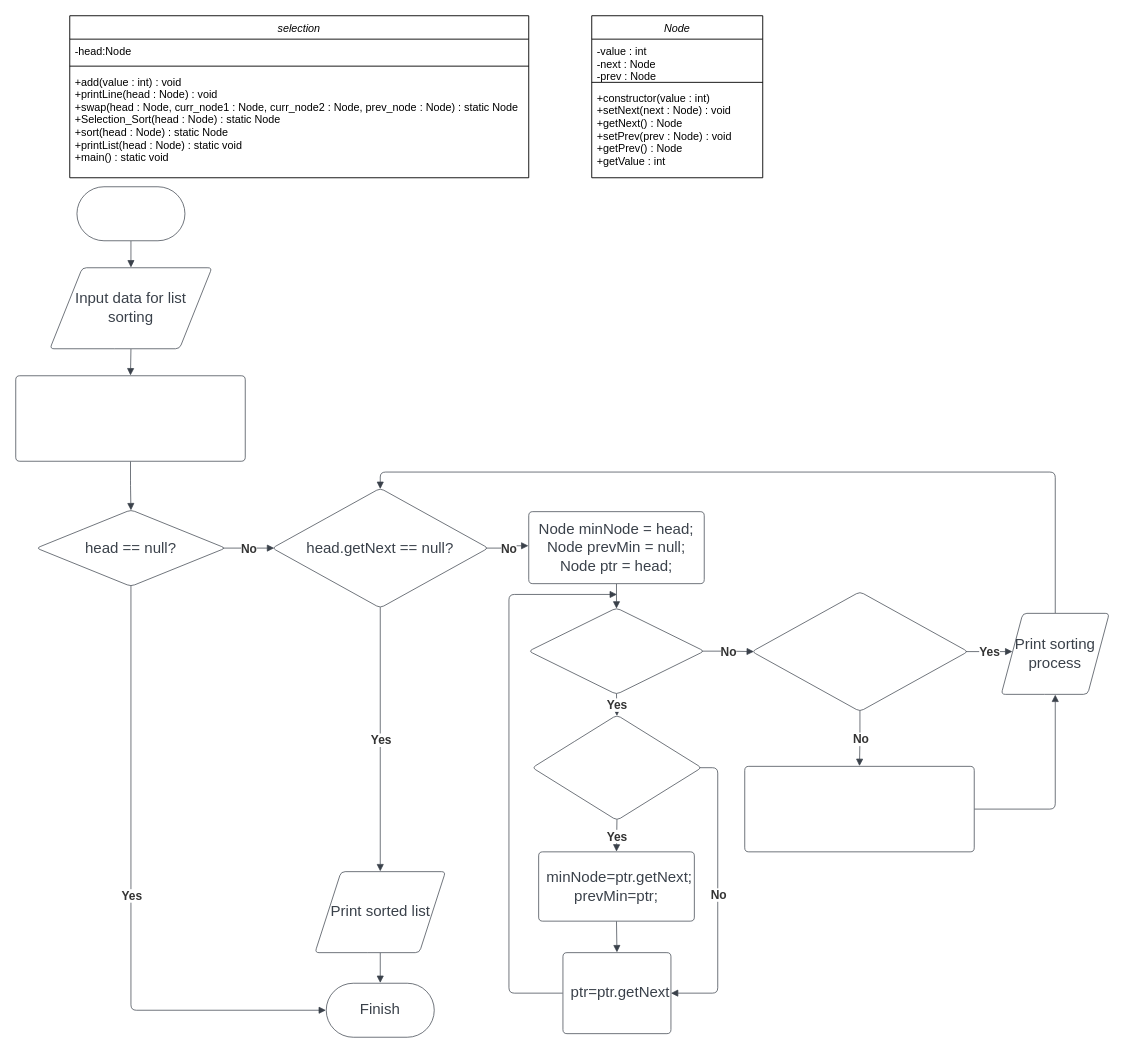
This 1125x1053 diagram has some shape labels left out. Here are the shapes that lost their labels. From the top down, the centre of each, then its label:
(130,213): Start
(130,418): Set the first element as head
(616,650): ptr.getNext != null?
(859,651): head == minNode?
(616,767): ptr.getNext<minNode?
(859,809): Swap the position of head with minNode
